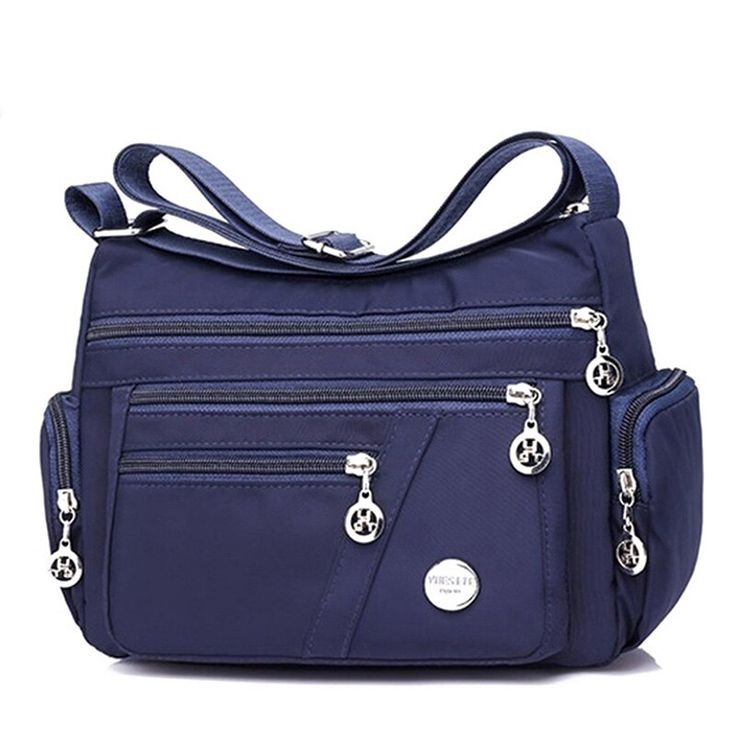nylon: (36, 208, 704, 672)
